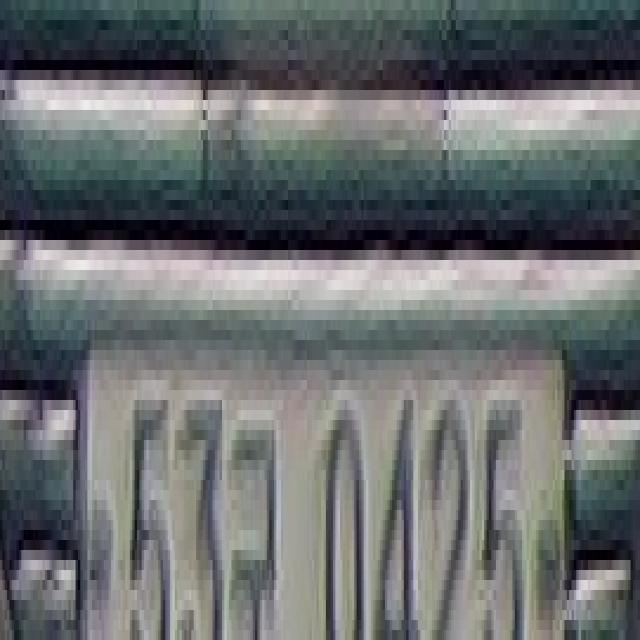0: (322, 390, 368, 640)
2: (425, 380, 482, 640)
3: (177, 390, 234, 640)
4: (368, 360, 423, 640)
5: (474, 360, 526, 640), (130, 390, 175, 640)
gu: (229, 390, 279, 640)
license_plate: (61, 340, 581, 600)
